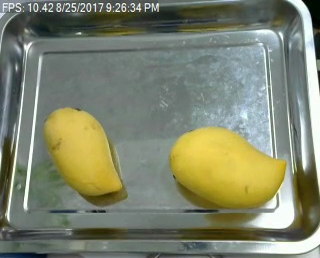Mango: (170, 123, 288, 211), (43, 105, 125, 198)
